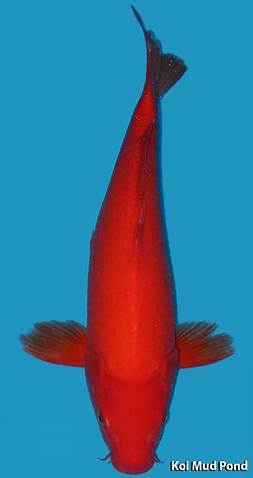red: (22, 5, 232, 475)
